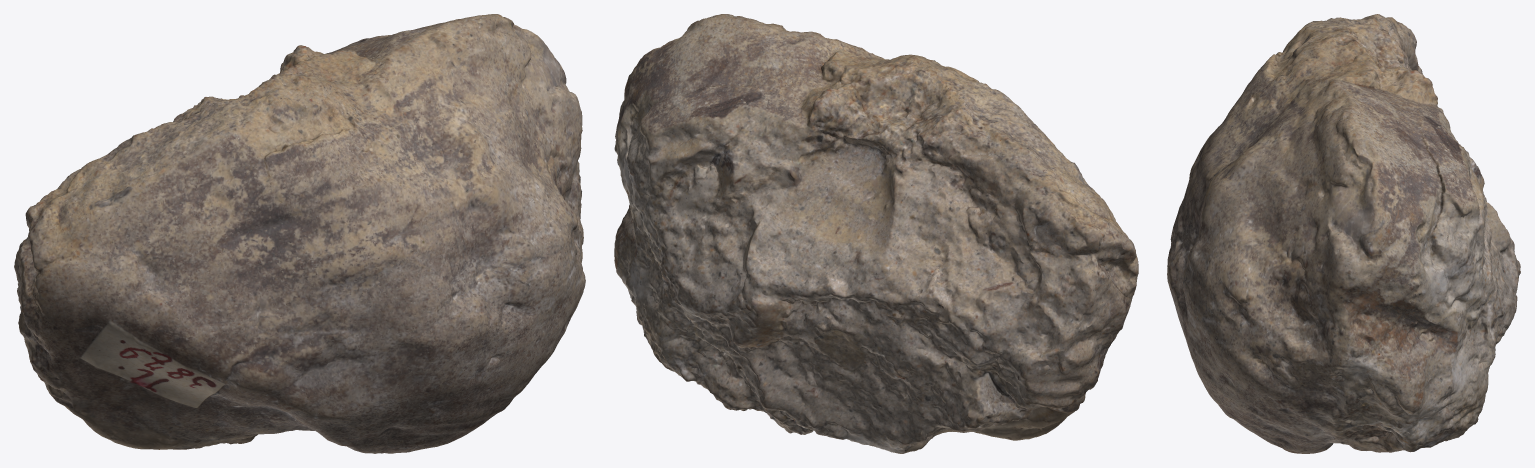
Rendered from EWS0004002.glb.
The picture shows the model from 3 angles, left to right: view 1: azimuth 30°, elevation 25°; view 2: azimuth 150°, elevation 25°; view 3: azimuth 270°, elevation 25°; orthographic projection. The views are drawn at different scales.
Visible parts, largest first — view 1: input; view 2: input; view 3: input.
Boxes of the visible parts, left/top/right/bottom form: input: left=14, top=14, right=585, bottom=453; input: left=614, top=14, right=1138, bottom=453; input: left=1167, top=14, right=1520, bottom=453.
Size of the model in its own units: 0.0497 by 0.0343 by 0.0299.
Materials: 1 (1 with a texture image).
